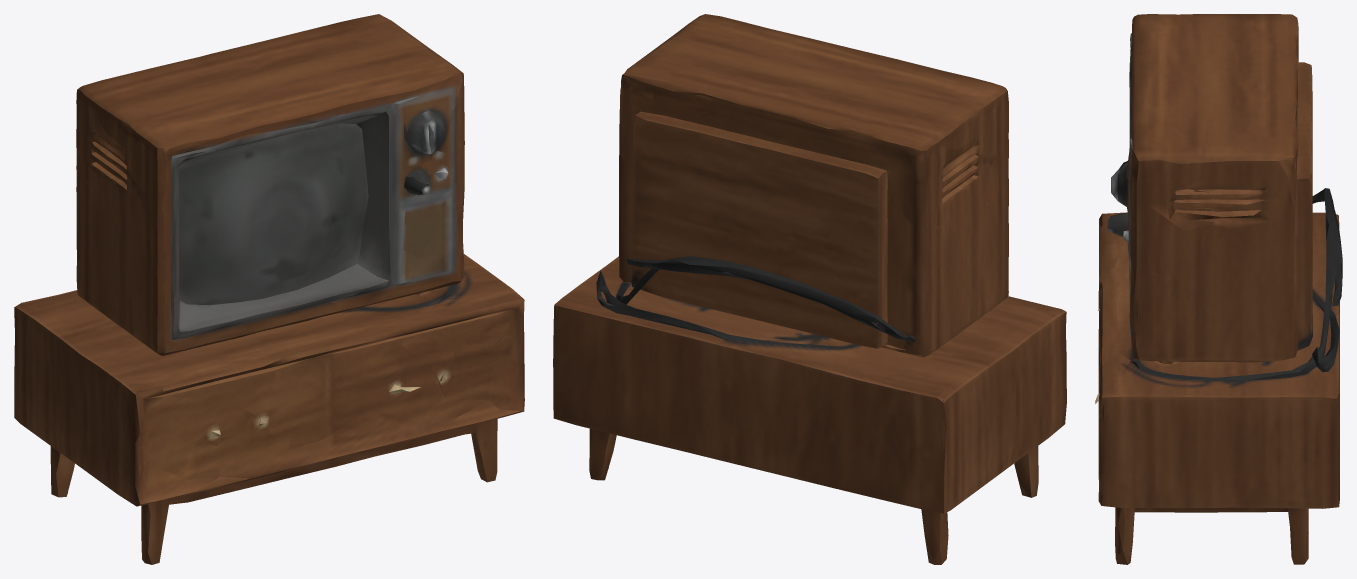
3 renders of one model, left to right at view 1: azimuth 30°, elevation 25°; view 2: azimuth 150°, elevation 25°; view 3: azimuth 270°, elevation 25°, orthographic. The views are drawn at different scales.
Visible parts, largest first — view 1: world; view 2: world; view 3: world.
Part boxes in pixels (box(x1,y1,x2,y2)): world: box(14, 14, 524, 564); world: box(553, 14, 1066, 564); world: box(1095, 14, 1342, 564).
Size of the model in its own units: 0.65 by 0.6499 by 0.3661.
1 material, 1 textured.
